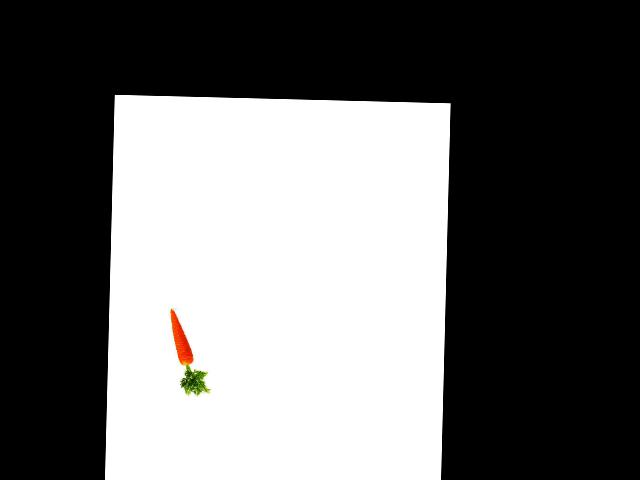carrot: (167, 306, 196, 367)
